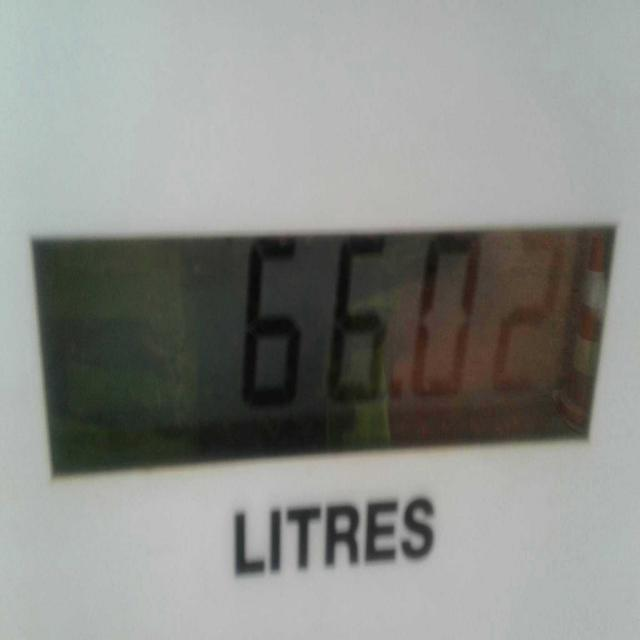.: (385, 378, 408, 412)
0: (412, 226, 481, 407)
2: (489, 228, 565, 404)
6: (239, 232, 302, 418), (332, 226, 386, 414)
screen: (36, 236, 619, 449)
